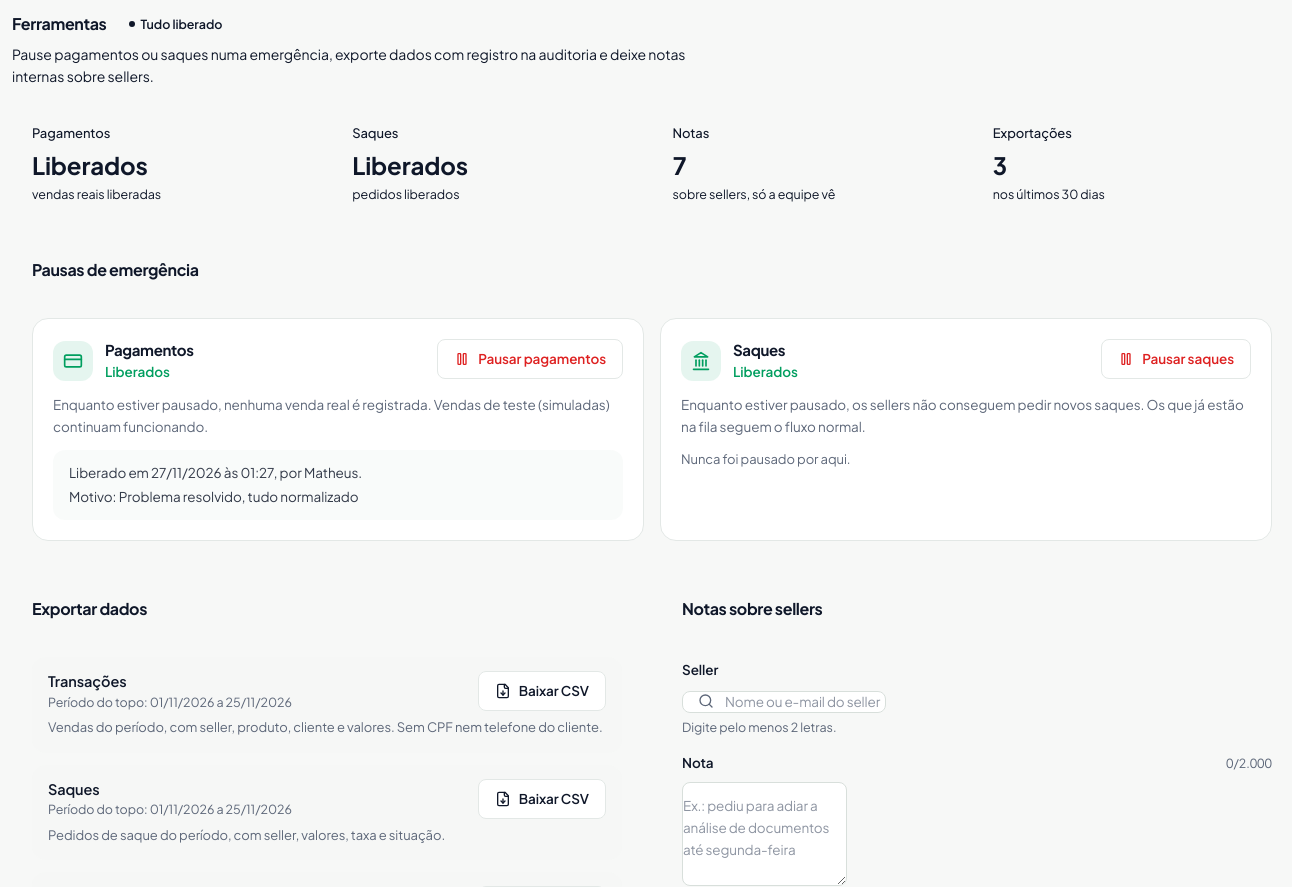
Test: tela de Ferramentas › pausar pede o motivo, depois a senha, e só então chama o servidor com os argumentos certos
The image size is (1292, 887).
Expected: the element "Pagamentos" is shown, [32,318,644,541]
Click the button "Pausar pagamentos".
click(530, 359)  # box [437,339,623,379]
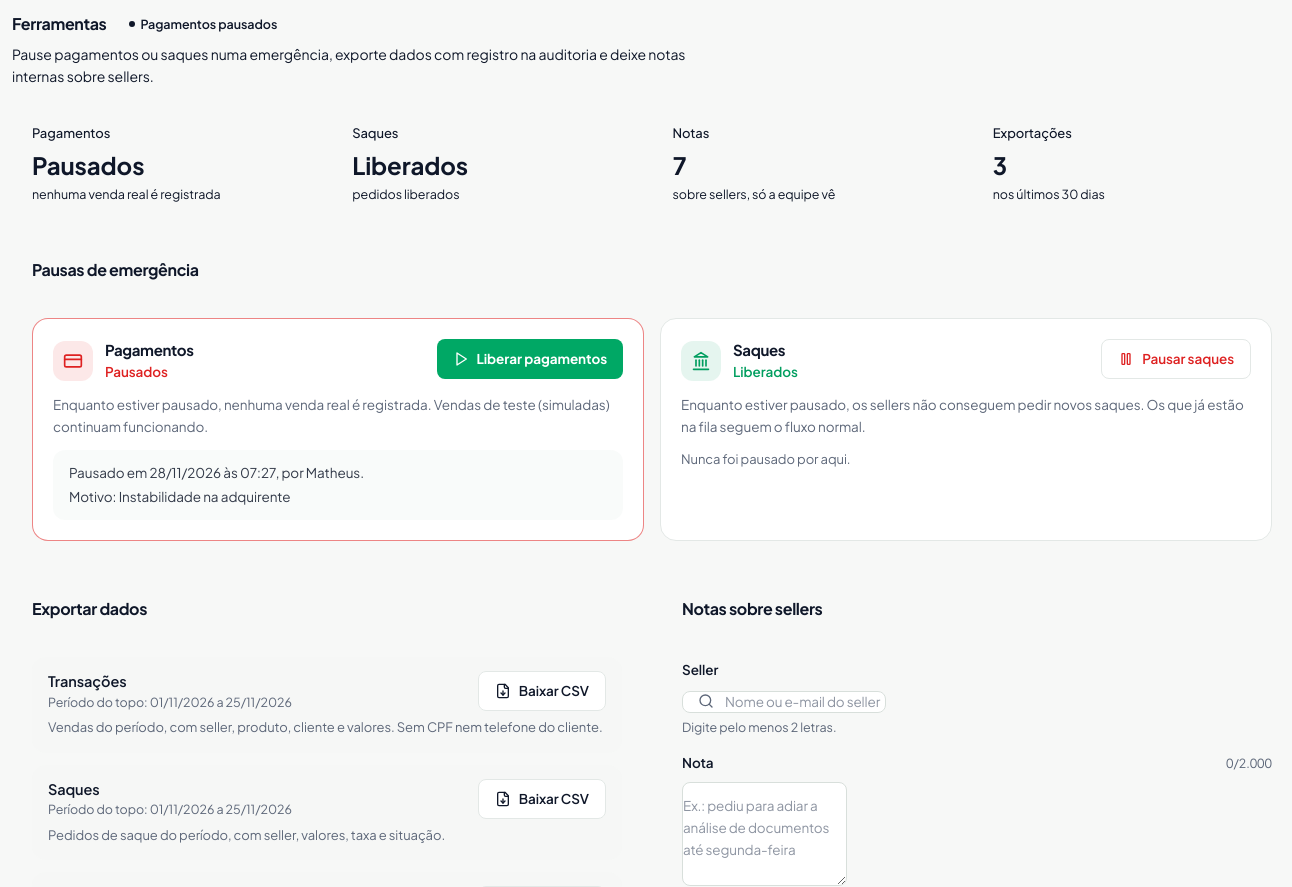
Expected: the text "Pagamentos pausados" is shown, [140,16,277,32]
Expected: the 2nd text "Pausados" is shown, [105,363,168,380]
Expected: the text "Motivo: Instabilidade na adquirente" is shown, [69,488,290,505]
